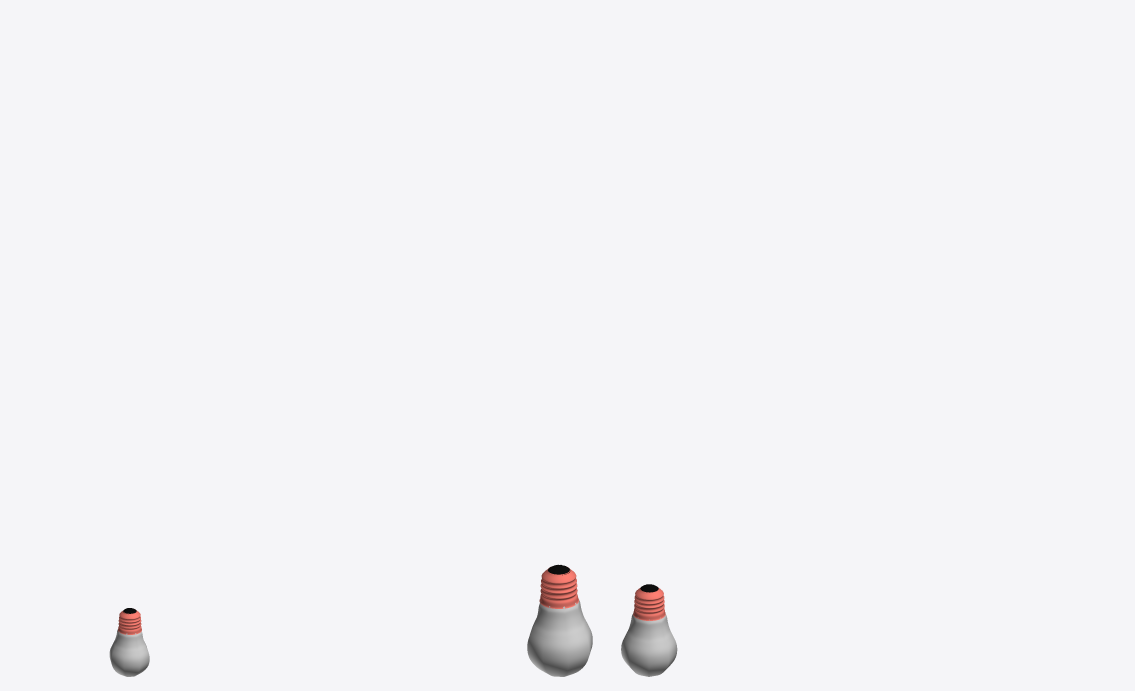
The model's file is bulb-off.glb.
The picture shows the model from 3 angles, left to right: view 1: azimuth 30°, elevation 25°; view 2: azimuth 150°, elevation 25°; view 3: azimuth 270°, elevation 25°; orthographic projection. The views are drawn at different scales.
Visible parts, largest first — view 1: Plane.002, Plane.003; view 2: Plane.002, Plane.003; view 3: Plane.002, Plane.003.
Part boxes in pixels (x1=…): Plane.002: x1=109, y1=629, x2=149, y2=676; Plane.003: x1=118, y1=610, x2=141, y2=634; Plane.002: x1=527, y1=597, x2=592, y2=676; Plane.003: x1=539, y1=566, x2=578, y2=608; Plane.002: x1=621, y1=613, x2=677, y2=676; Plane.003: x1=633, y1=586, x2=665, y2=620.
Bounding box in the file's own units: 0.5188 × 3.32 × 2.15.
